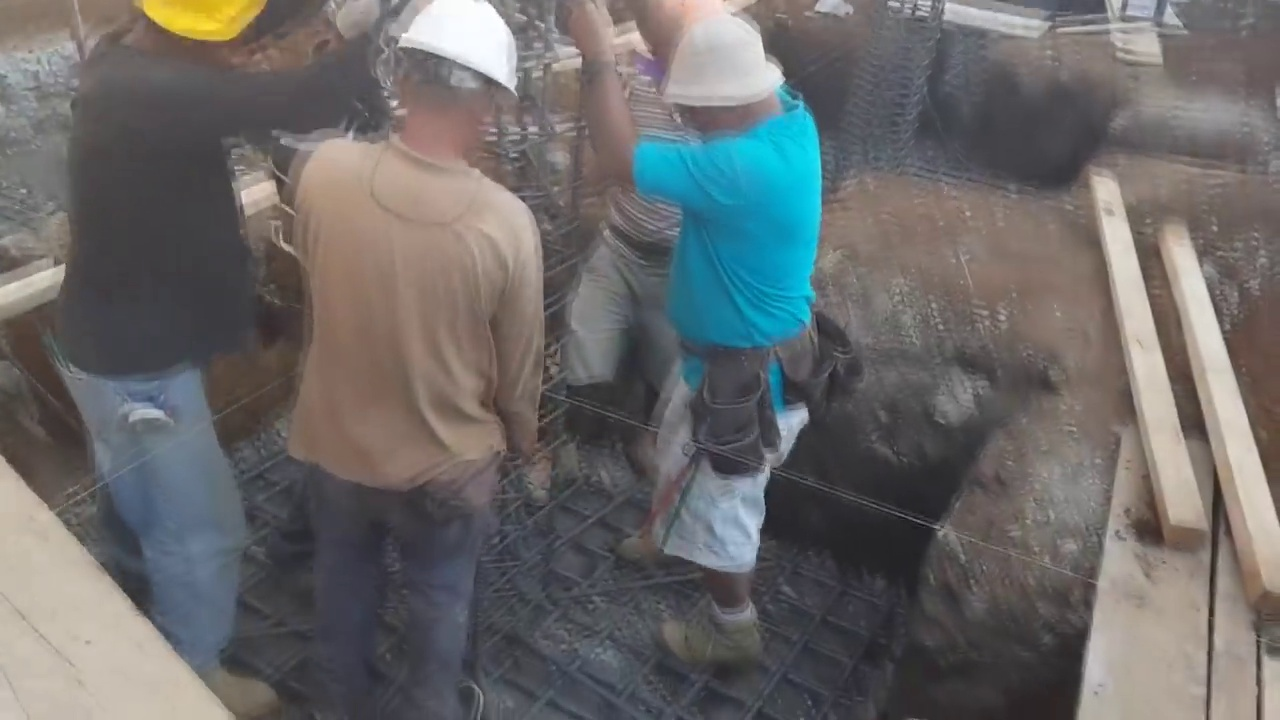helmet: (387, 2, 521, 112), (139, 1, 261, 45)
helmet-off: (659, 7, 798, 141)
helmet-on: (371, 0, 527, 170), (108, 1, 256, 74)
person: (41, 0, 324, 715), (282, 0, 551, 706), (579, 2, 847, 666), (567, 1, 700, 448)
